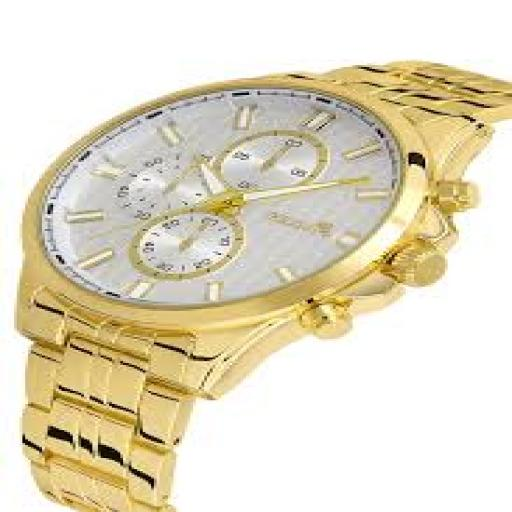KolSaati: (2, 5, 507, 506)
